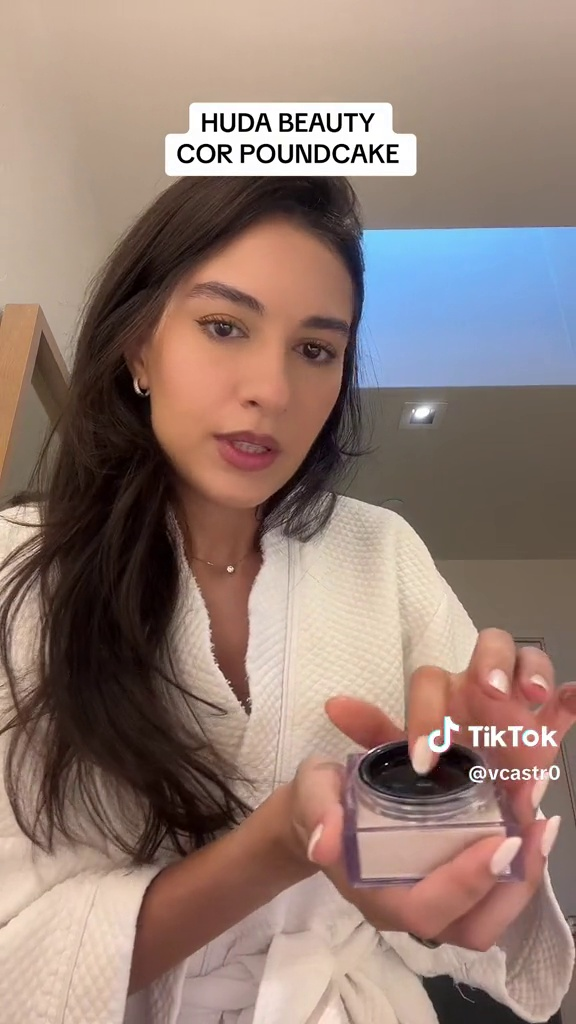train' :'yolo_data/train/images',: (331, 730, 524, 891)
